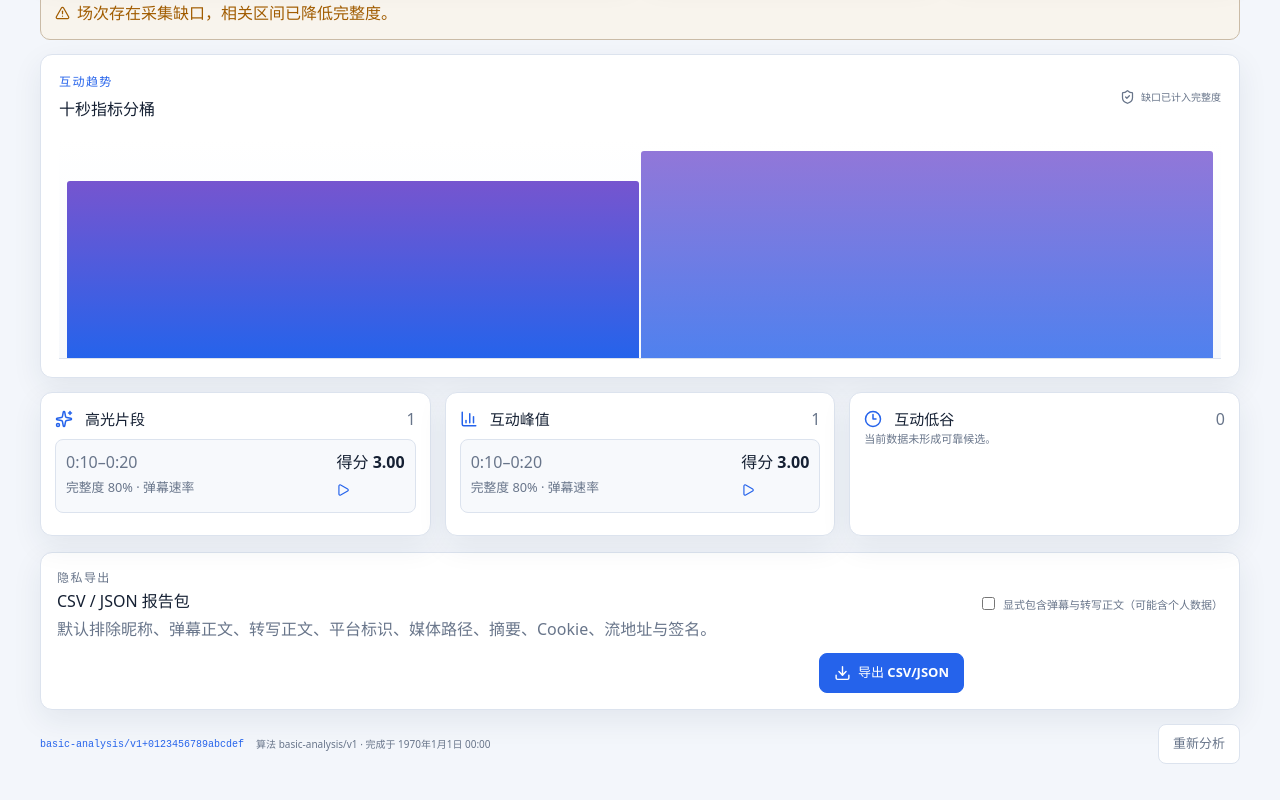
Scenario: AnalysisPage › defaults to privacy-safe export and requires an explicit text opt-in
The image size is (1280, 800).
(page scrolled)
Expected: the heading "CSV / JSON 报告包" is shown, [57, 590, 190, 612]
Expected: the text "默认排除昵称、弹幕正文、转写正文、平台标识、媒体路径、摘要、Cookie、流地址与签名。" is shown, [57, 618, 716, 640]
Click the checkbox labelled "显式包含弹幕与转写正文（可能含个人数据）". click: x=988, y=603
box: [982, 597, 995, 610]
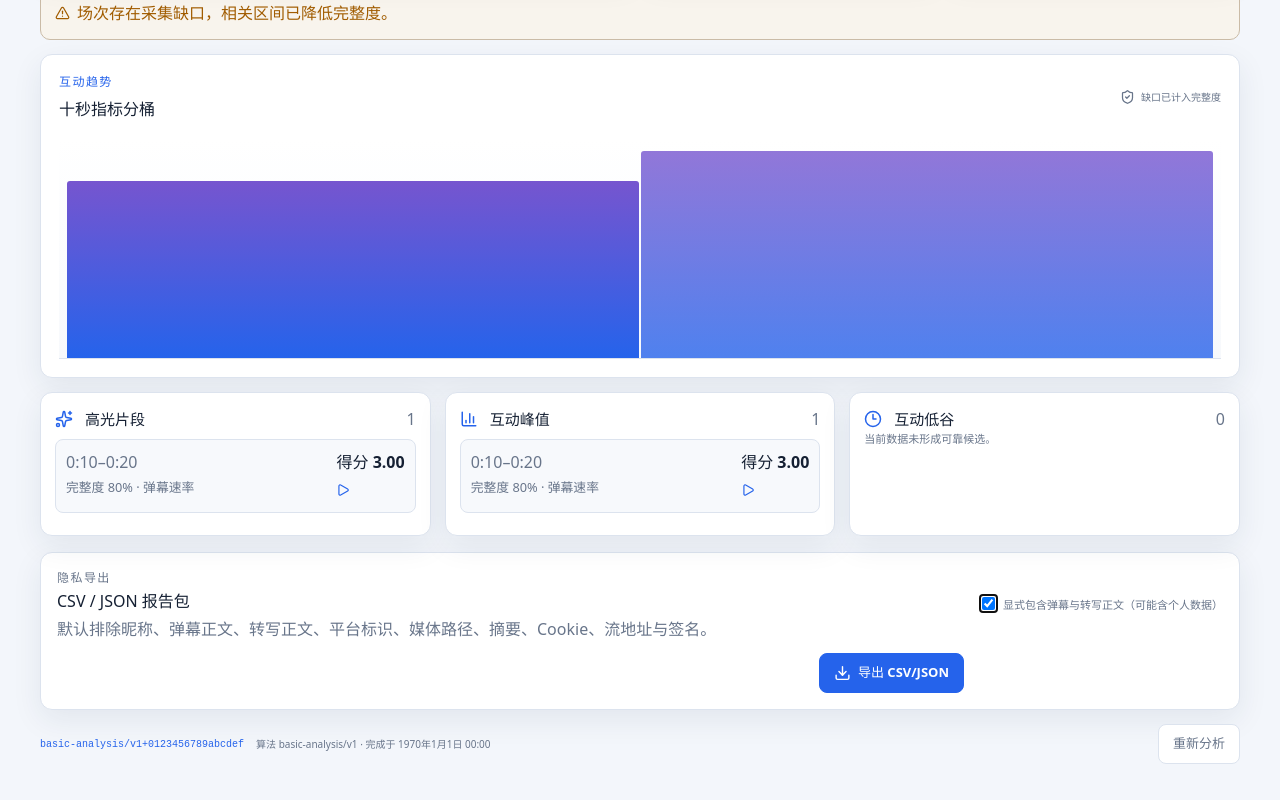
Click the button "导出 CSV/JSON". click: x=892, y=673
box: [819, 653, 964, 693]
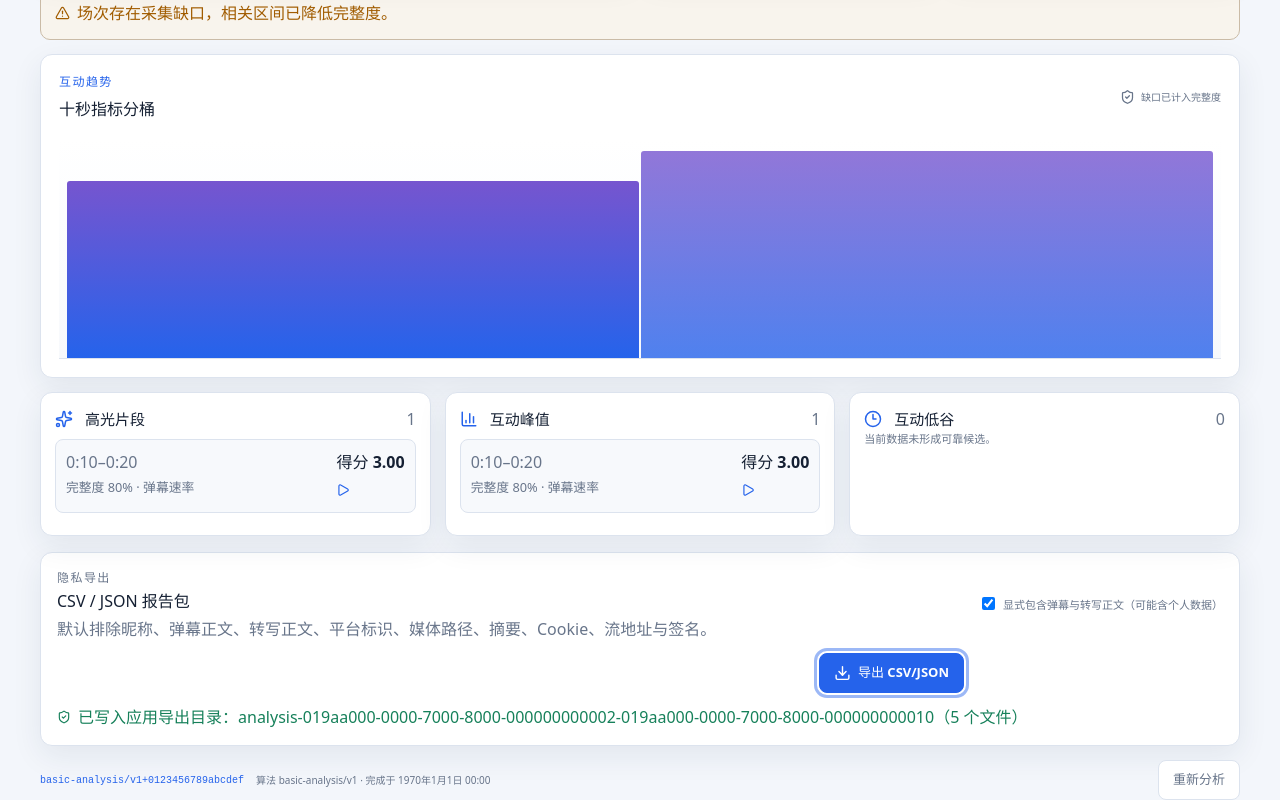
Result: the text "已写入应用导出目录" shows "5 个文件" at [57, 706, 1028, 728]
